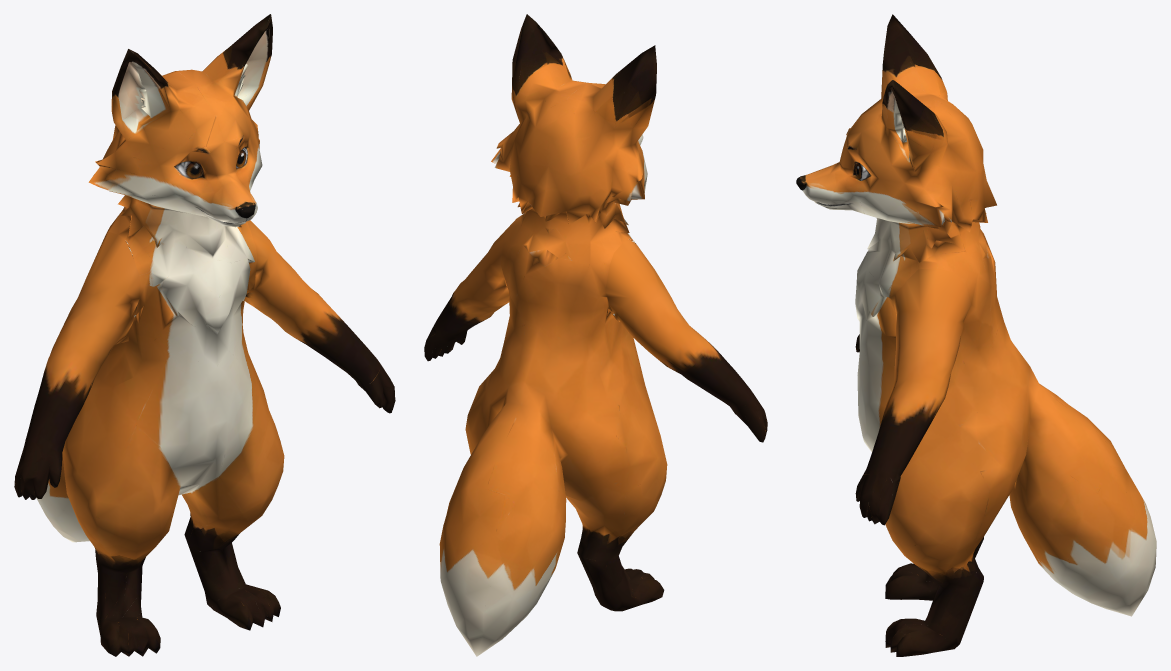
File: fox-arms.glb
3 renders of one model, left to right at view 1: azimuth 30°, elevation 25°; view 2: azimuth 150°, elevation 25°; view 3: azimuth 270°, elevation 25°, orthographic. The views are drawn at different scales.
Visible parts, largest first — view 1: fox; view 2: fox; view 3: fox.
Part boxes in pixels (bbox=[...]): fox: bbox=[14, 14, 395, 656]; fox: bbox=[424, 14, 767, 656]; fox: bbox=[796, 14, 1156, 656].
Bounding box in the file's own units: 1.24 × 1.9 × 1.08.
1 material, 1 textured.
